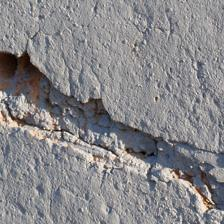Crack: (2, 26, 214, 182)
